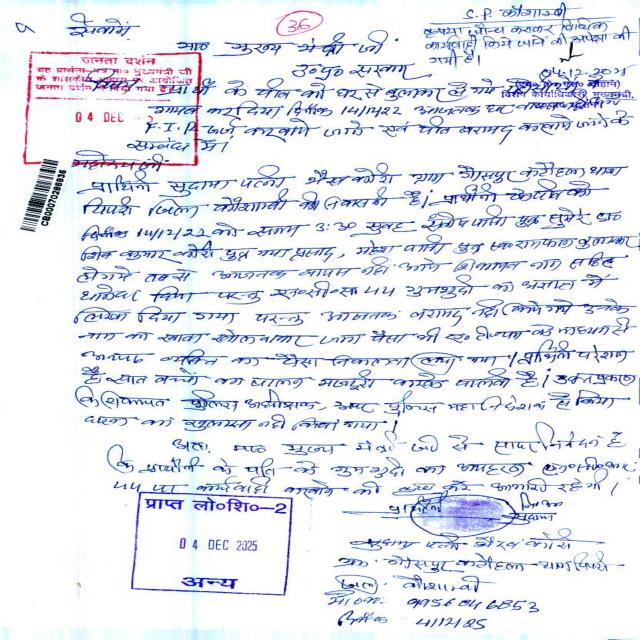antritgovtstamp: (121, 485, 302, 599)
barcode: (13, 151, 71, 231)
fingerprint: (408, 486, 525, 536)
jantadarsan: (23, 48, 205, 163)
signnamestamp: (502, 40, 631, 112)
